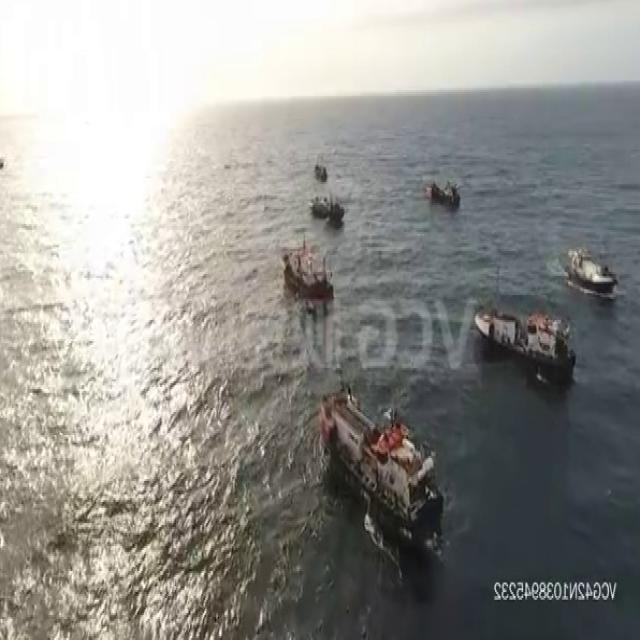houseboat: (474, 291, 573, 386), (283, 237, 329, 296), (563, 241, 617, 291), (310, 191, 345, 224), (429, 175, 462, 205), (314, 154, 327, 177)
passenger ship: (321, 376, 444, 536)
